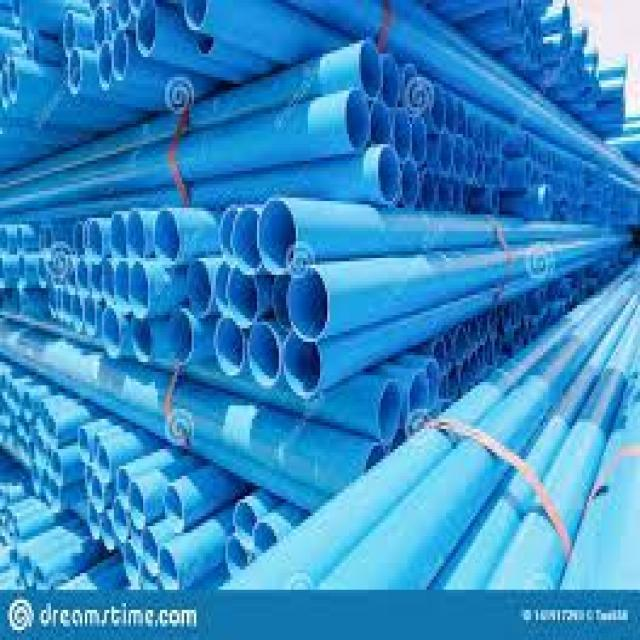pipe: (259, 199, 298, 277), (288, 266, 328, 341), (283, 333, 324, 397), (247, 323, 280, 387), (231, 204, 260, 270), (228, 264, 258, 327), (213, 317, 245, 375), (185, 262, 213, 319), (378, 380, 403, 442), (152, 210, 180, 263), (347, 90, 370, 152), (359, 40, 383, 99), (168, 311, 193, 366), (379, 146, 402, 203), (131, 260, 150, 319), (233, 500, 258, 543), (224, 533, 249, 576), (100, 305, 120, 357), (136, 4, 157, 53), (164, 485, 185, 534), (409, 371, 431, 417), (133, 317, 153, 366), (394, 110, 414, 158), (371, 102, 393, 144), (127, 208, 145, 257), (254, 523, 281, 554), (384, 56, 399, 110), (107, 214, 127, 254), (127, 480, 144, 527), (92, 3, 108, 51), (403, 159, 418, 210), (141, 528, 157, 575), (86, 218, 103, 261), (114, 258, 128, 308), (98, 40, 113, 86), (160, 547, 177, 587), (113, 30, 127, 77), (62, 9, 75, 55), (113, 466, 132, 496), (185, 1, 207, 25), (68, 56, 80, 94)
